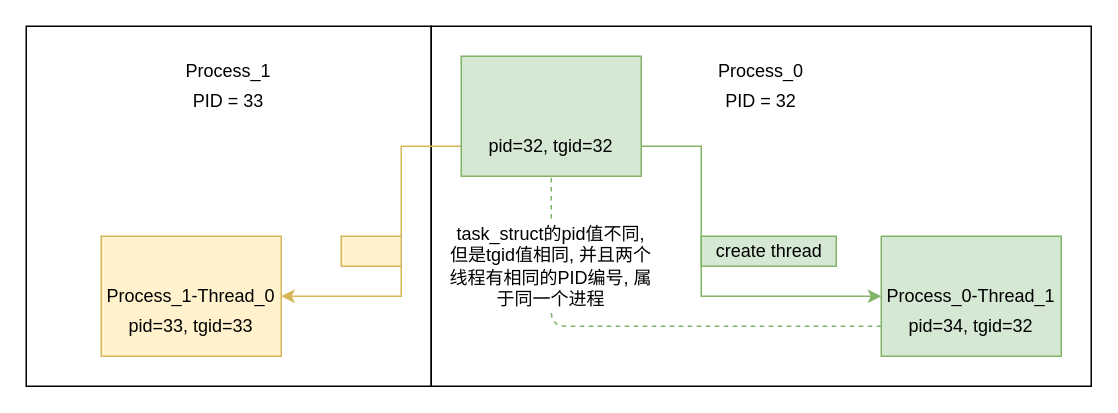
This 1118x413 diagram has some shape labels left out. The shapes that lost their labels are listed below. From the top down, each one's box as (x1, y1, x2, y2) in pixels, then its label:
(460, 55, 641, 176): Process_0-Thread_0
(340, 235, 401, 266): fork
